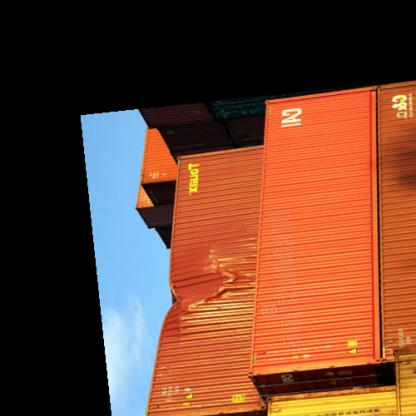Damage: (166, 258, 244, 310)
